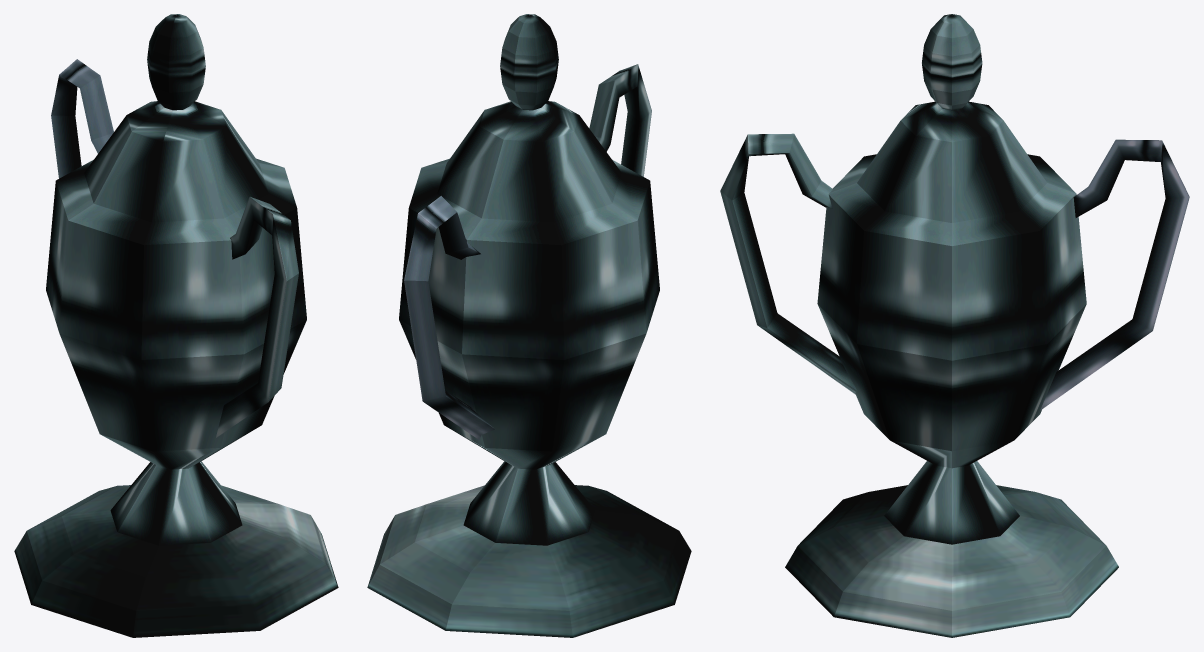
File: Urne [Dunkelblau]_708.glb
The picture shows the model from 3 angles, left to right: view 1: azimuth 30°, elevation 25°; view 2: azimuth 150°, elevation 25°; view 3: azimuth 270°, elevation 25°; orthographic projection.
Visible parts, largest first — view 1: pSphereShape1, pSphereShape3, pCylinderShape2, pSphereShape2, pCylinderShape1; view 2: pSphereShape1, pSphereShape3, pCylinderShape1, pSphereShape2, pCylinderShape2; view 3: pSphereShape1, pSphereShape3, pCylinderShape1, pCylinderShape2, pSphereShape2.
Part boxes in pixels (x1,y1,x2,y2): pSphereShape1: (46, 101, 306, 545); pSphereShape3: (14, 485, 338, 637); pCylinderShape2: (216, 197, 298, 437); pSphereShape2: (147, 14, 205, 110); pCylinderShape1: (51, 59, 113, 178); pSphereShape1: (399, 101, 659, 545); pSphereShape3: (367, 485, 691, 637); pCylinderShape1: (404, 196, 495, 439); pSphereShape2: (500, 14, 558, 110); pCylinderShape2: (589, 64, 651, 176); pSphereShape1: (817, 101, 1086, 544); pSphereShape3: (785, 485, 1118, 637); pCylinderShape1: (1040, 139, 1189, 410); pCylinderShape2: (720, 133, 857, 394); pSphereShape2: (922, 14, 982, 110).
Size of the model in its own units: 0.0809 by 0.1473 by 0.1136.
Materials: 5 (5 with a texture image).
